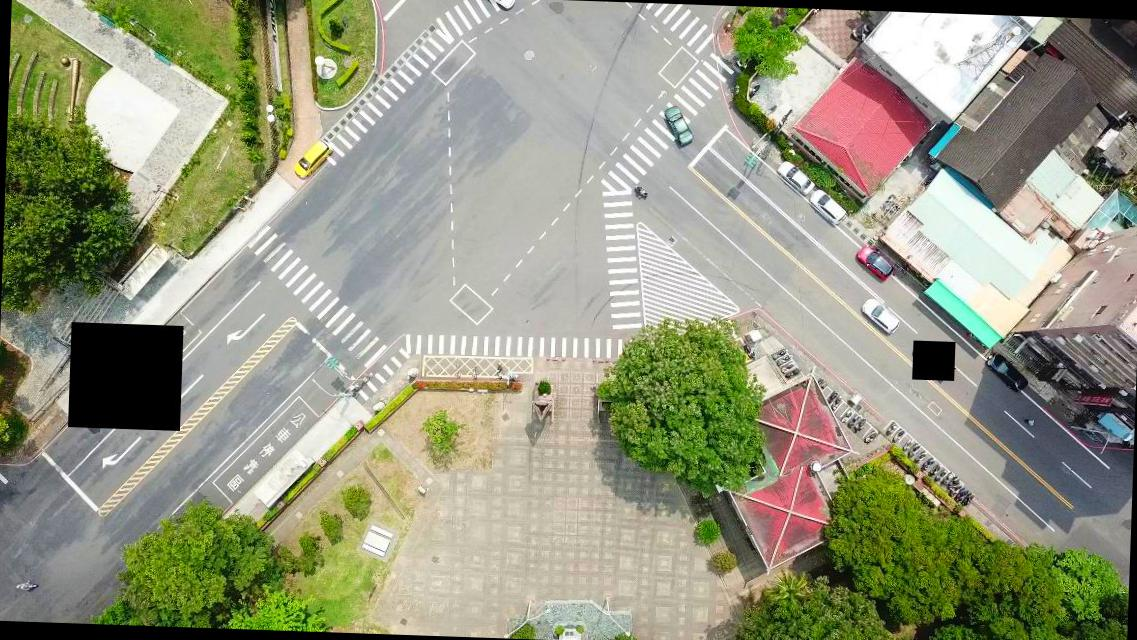vehicle: (985, 352, 1028, 392), (293, 136, 331, 178), (860, 294, 899, 334), (776, 158, 816, 196), (662, 104, 694, 148), (855, 243, 895, 278), (810, 188, 846, 224), (481, 0, 518, 12)
